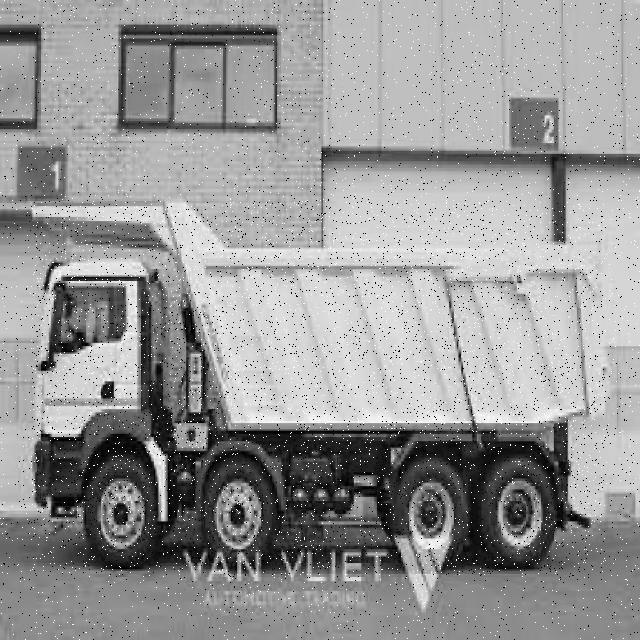Box Truck: (31, 200, 606, 575)
